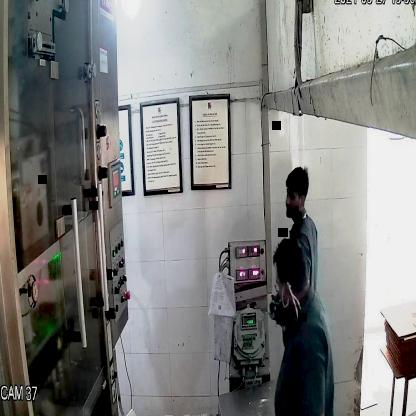no_goggles: (284, 188, 305, 206)
